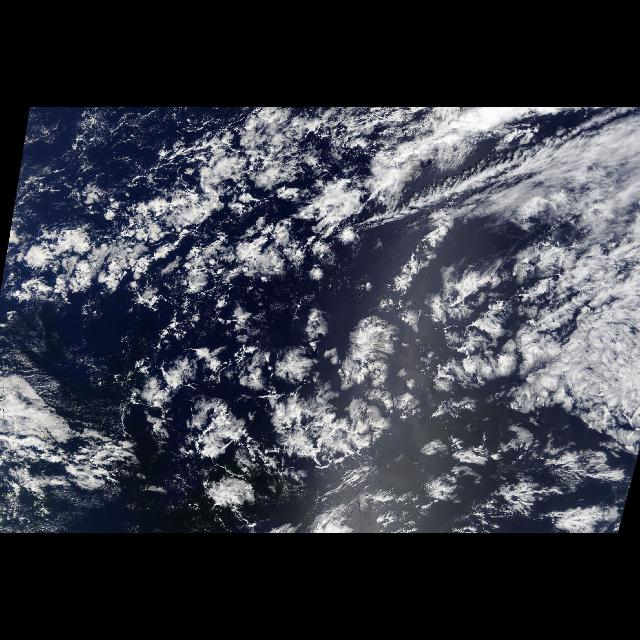Flower: (124, 167, 632, 529)
